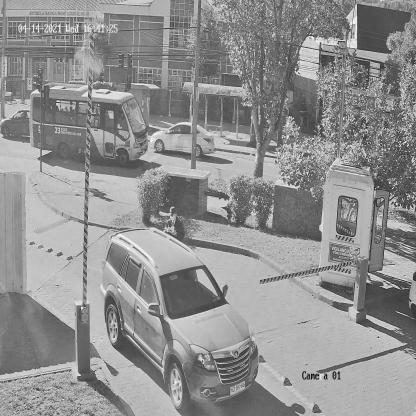Patente: (230, 380, 246, 396)
